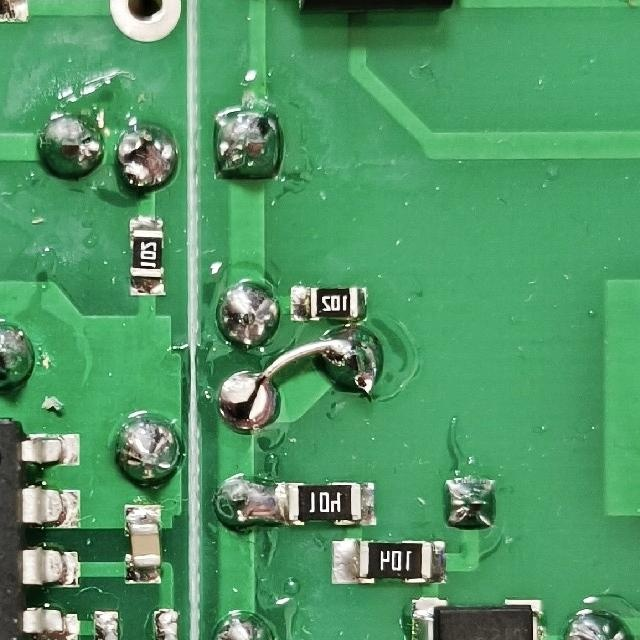chip-capacitor: (122, 501, 166, 587)
chip-resistor: (327, 536, 450, 588), (273, 479, 379, 529), (286, 282, 370, 325), (128, 213, 167, 299)
diode: (401, 594, 547, 640)
